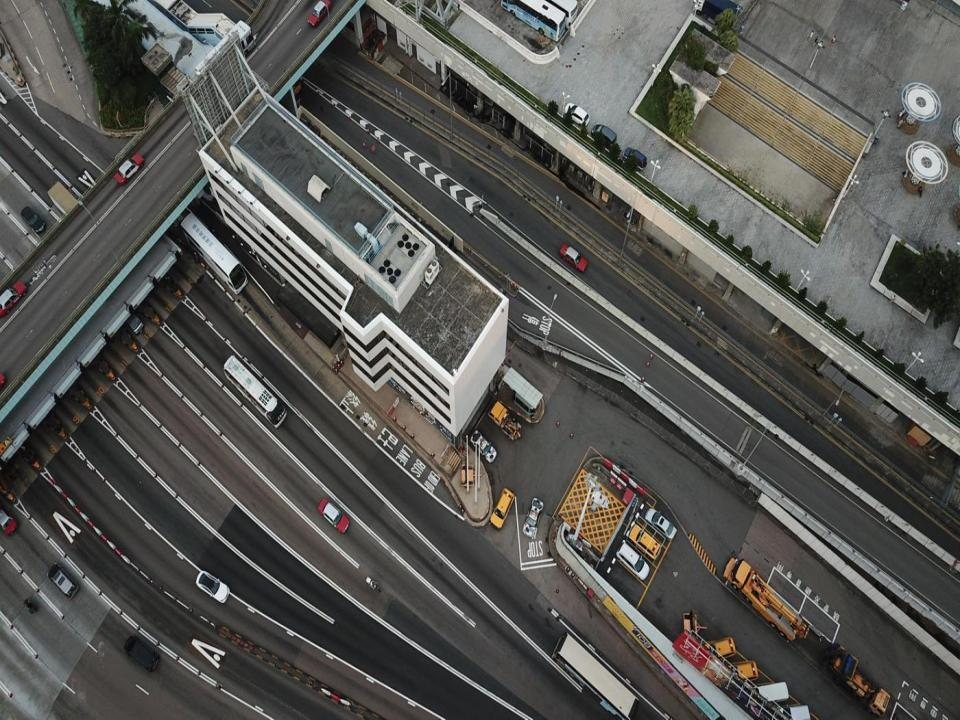bus: (552, 632, 638, 719), (179, 212, 248, 295), (224, 354, 288, 428), (501, 0, 566, 41), (521, 0, 578, 30)
car: (318, 497, 350, 533), (195, 571, 229, 604), (644, 507, 676, 541), (0, 279, 27, 318), (114, 154, 144, 184), (470, 430, 496, 463), (522, 498, 544, 537), (559, 243, 588, 271), (564, 102, 590, 128), (20, 206, 45, 232), (0, 502, 18, 536), (307, 0, 330, 26)
truck: (723, 558, 810, 640), (821, 642, 893, 716), (694, 0, 742, 31), (488, 400, 521, 440), (272, 57, 302, 96)
van: (124, 634, 159, 674), (616, 541, 650, 579), (628, 524, 661, 558), (47, 563, 79, 598), (696, 636, 736, 664), (717, 660, 758, 685), (490, 487, 514, 529), (748, 681, 788, 706), (120, 304, 144, 334), (591, 124, 617, 148), (772, 703, 810, 719), (623, 147, 647, 170)
